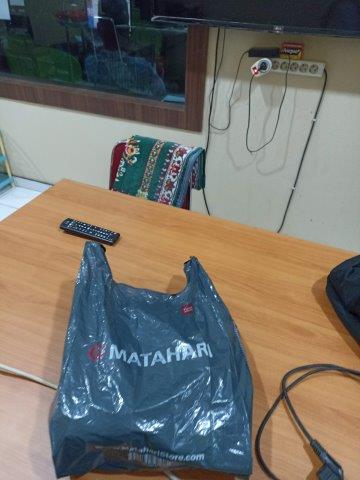plastik: (49, 242, 253, 472)
